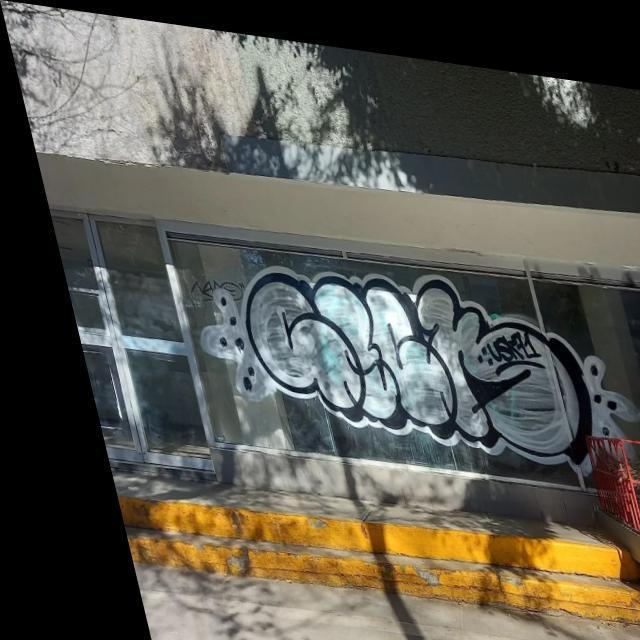-: (208, 241, 610, 476), (464, 314, 532, 356), (171, 270, 244, 308)
